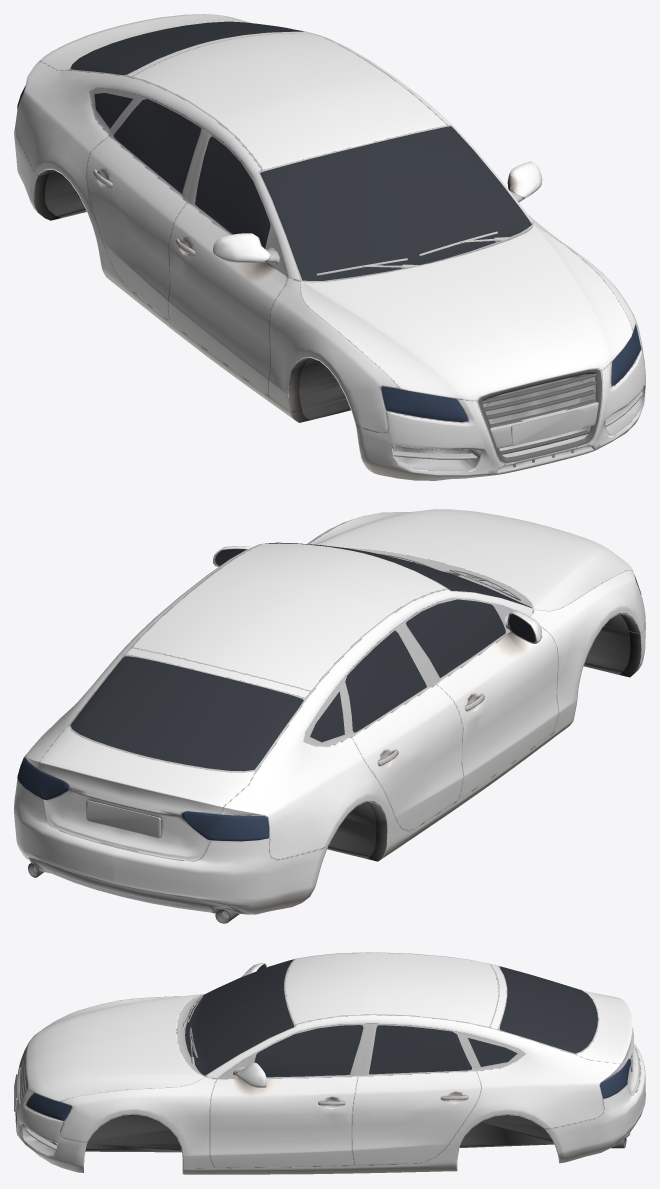
File: car_0017.fbx
The picture shows the model from 3 angles, top to bottom: view 1: azimuth 30°, elevation 25°; view 2: azimuth 150°, elevation 25°; view 3: azimuth 270°, elevation 25°; orthographic projection. The views are drawn at different scales.
Parts seen in each view (by area): view 1: car_main; view 2: car_main; view 3: car_main.
Boxes of the visible parts, box(x1,y1,x2,y2) form: car_main: box(14, 14, 645, 480); car_main: box(14, 509, 645, 923); car_main: box(14, 952, 645, 1174).
Bounding box in the file's own units: 205 × 124 × 475.
